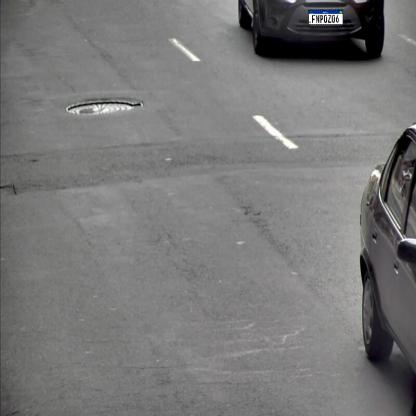PlacaM: (308, 10, 344, 25)
